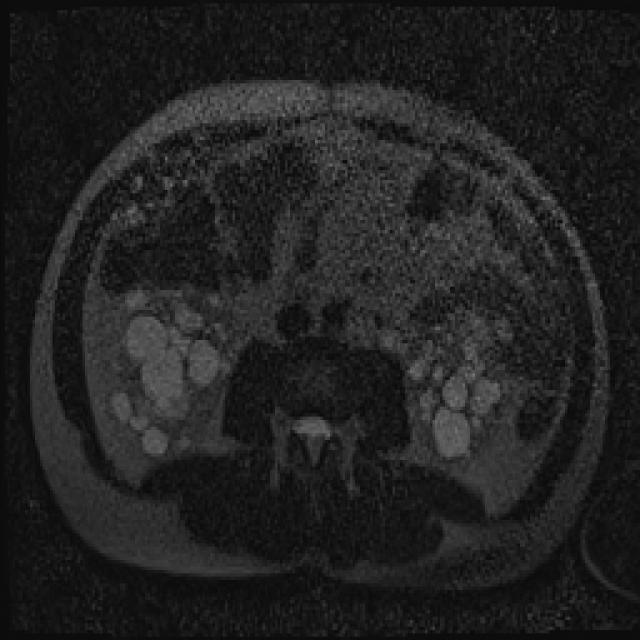sag: (106, 289, 238, 465)
sol: (384, 305, 512, 459)
